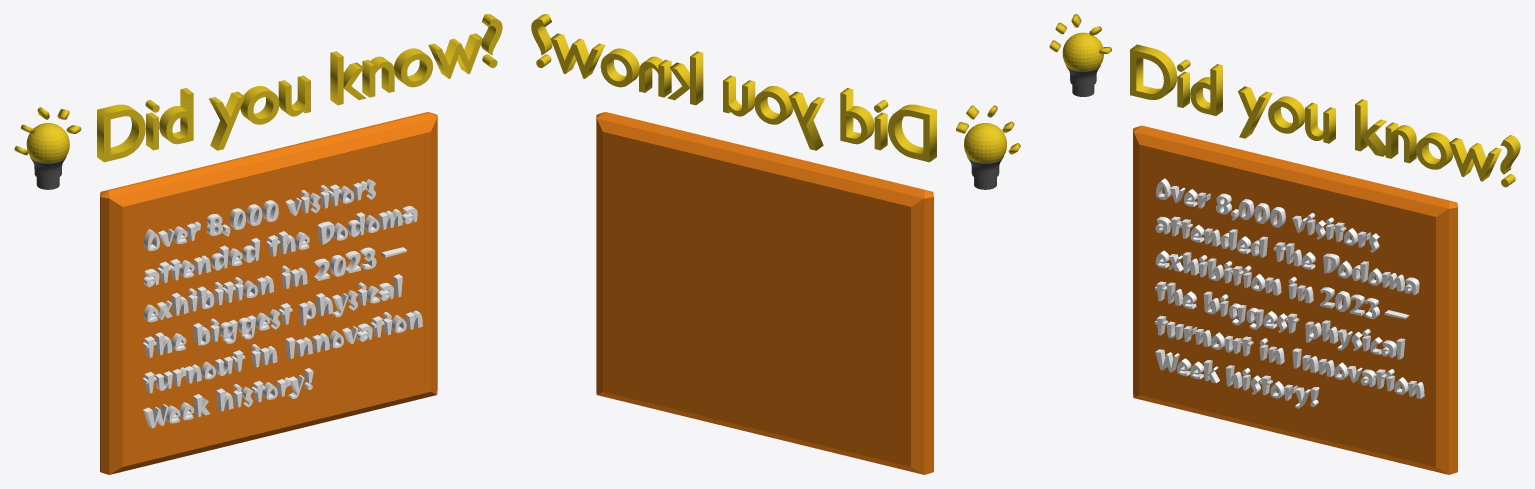
File: did you know fact03.glb
3 views of the same model, side by side, from view 1: azimuth 30°, elevation 25°; view 2: azimuth 150°, elevation 25°; view 3: azimuth 330°, elevation 25° (orthographic). The views are drawn at different scales.
Parts seen in each view (by area): view 1: QnSlab, Curve.004, Text, bulb; view 2: QnSlab, Text, bulb; view 3: QnSlab, Curve.004, Text, bulb.
Part boxes in pixels (x1=…): QnSlab: x1=100, y1=112, x2=437, y2=474; Curve.004: x1=142, y1=179, x2=422, y2=428; Text: x1=97, y1=14, x2=502, y2=162; bulb: x1=26, y1=123, x2=69, y2=189; QnSlab: x1=596, y1=112, x2=933, y2=474; Text: x1=531, y1=14, x2=936, y2=162; bulb: x1=964, y1=123, x2=1006, y2=189; QnSlab: x1=1133, y1=125, x2=1457, y2=474; Curve.004: x1=1154, y1=178, x2=1424, y2=408; Text: x1=1130, y1=44, x2=1520, y2=187; bulb: x1=1062, y1=32, x2=1103, y2=96.
Bounding box in the file's own units: 0.6399 × 0.484 × 0.0523.
